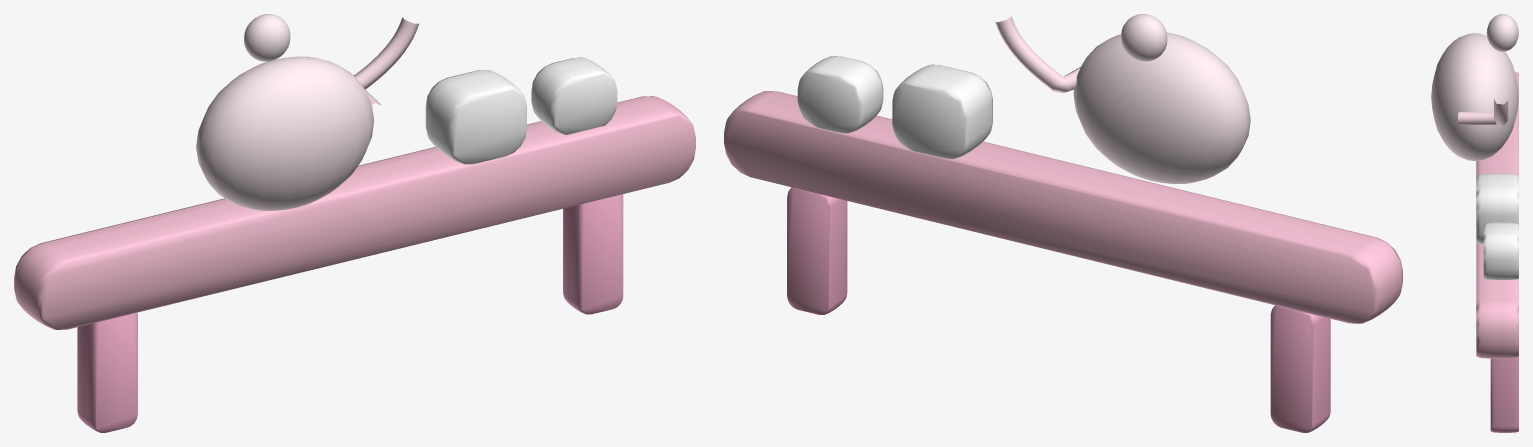
File: decor_3_candy.glb
3 views of the same model, side by side, from view 1: azimuth 30°, elevation 25°; view 2: azimuth 150°, elevation 25°; view 3: azimuth 270°, elevation 25° (orthographic). The views are drawn at different scales.
Visible parts, largest first — view 1: decor_3_candy; view 2: decor_3_candy; view 3: decor_3_candy.
Boxes of the visible parts, x1,y1,x2,y2 form: decor_3_candy: [14, 14, 695, 432]; decor_3_candy: [724, 14, 1402, 432]; decor_3_candy: [1431, 14, 1518, 432].
Bounding box in the file's own units: 12.5 × 6.73 × 1.86.
